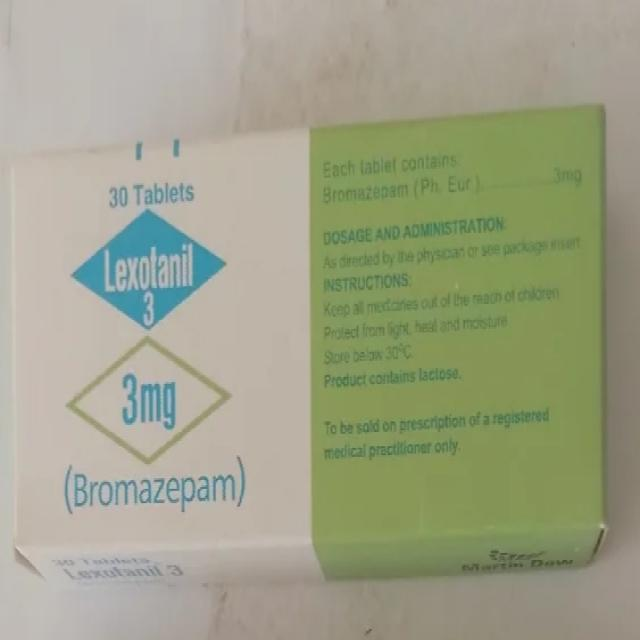drug-name: (100, 242, 196, 332)
